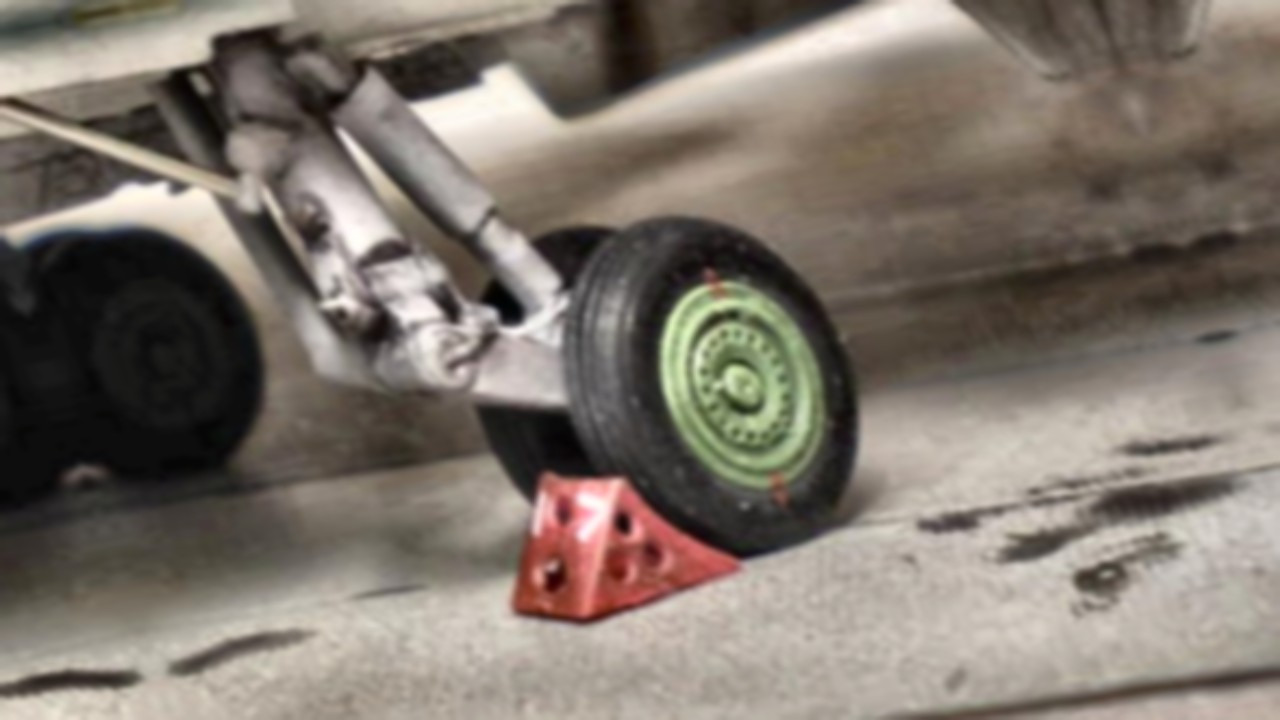chock: (463, 438, 755, 636)
wheel: (512, 190, 914, 580), (8, 202, 306, 501)
